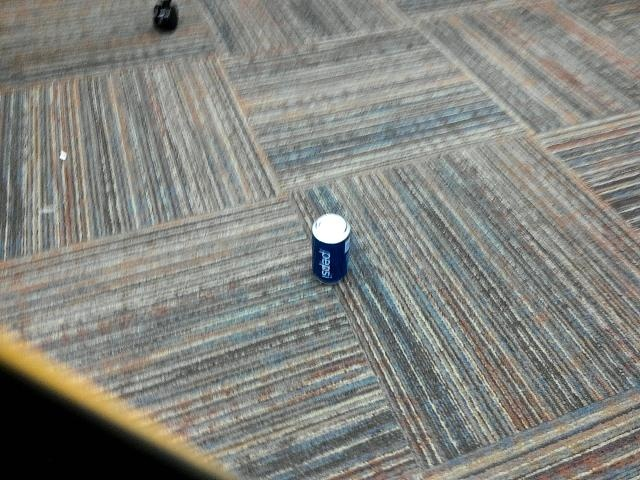can: (304, 208, 356, 287)
